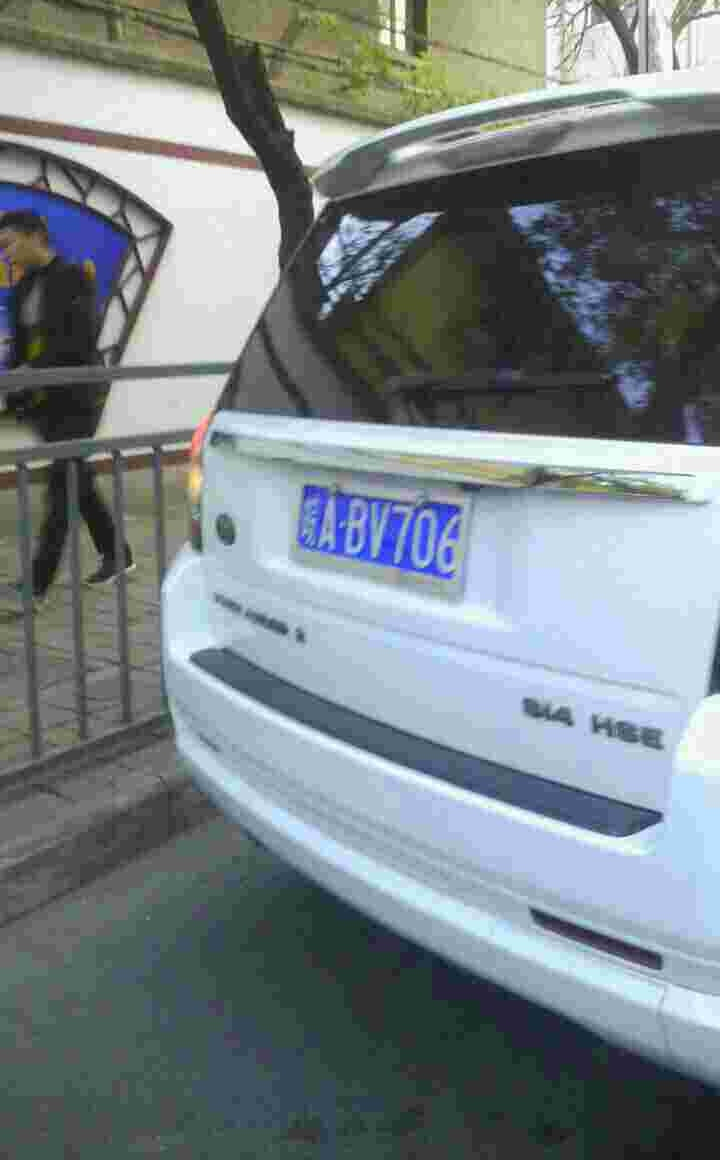license_plate: (289, 482, 467, 586)
